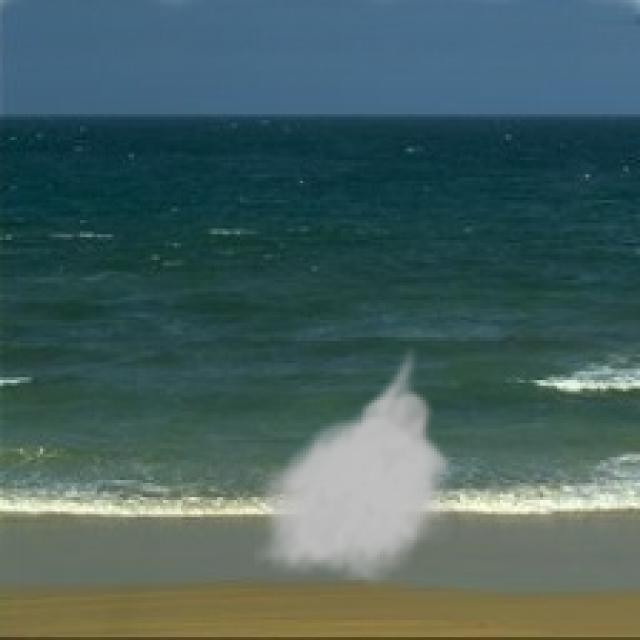smoke: (252, 343, 457, 586)
